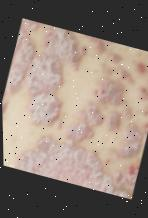plaque psoriasis: (2, 123, 141, 200), (67, 50, 148, 156), (16, 24, 89, 128), (0, 18, 40, 142)
